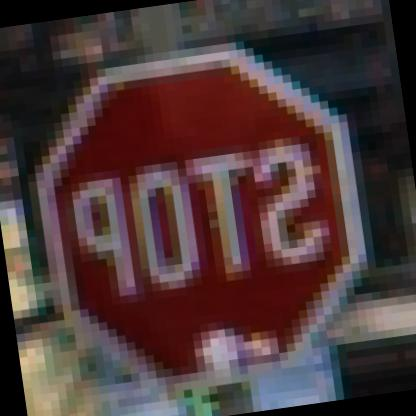stop: (17, 13, 387, 405)
